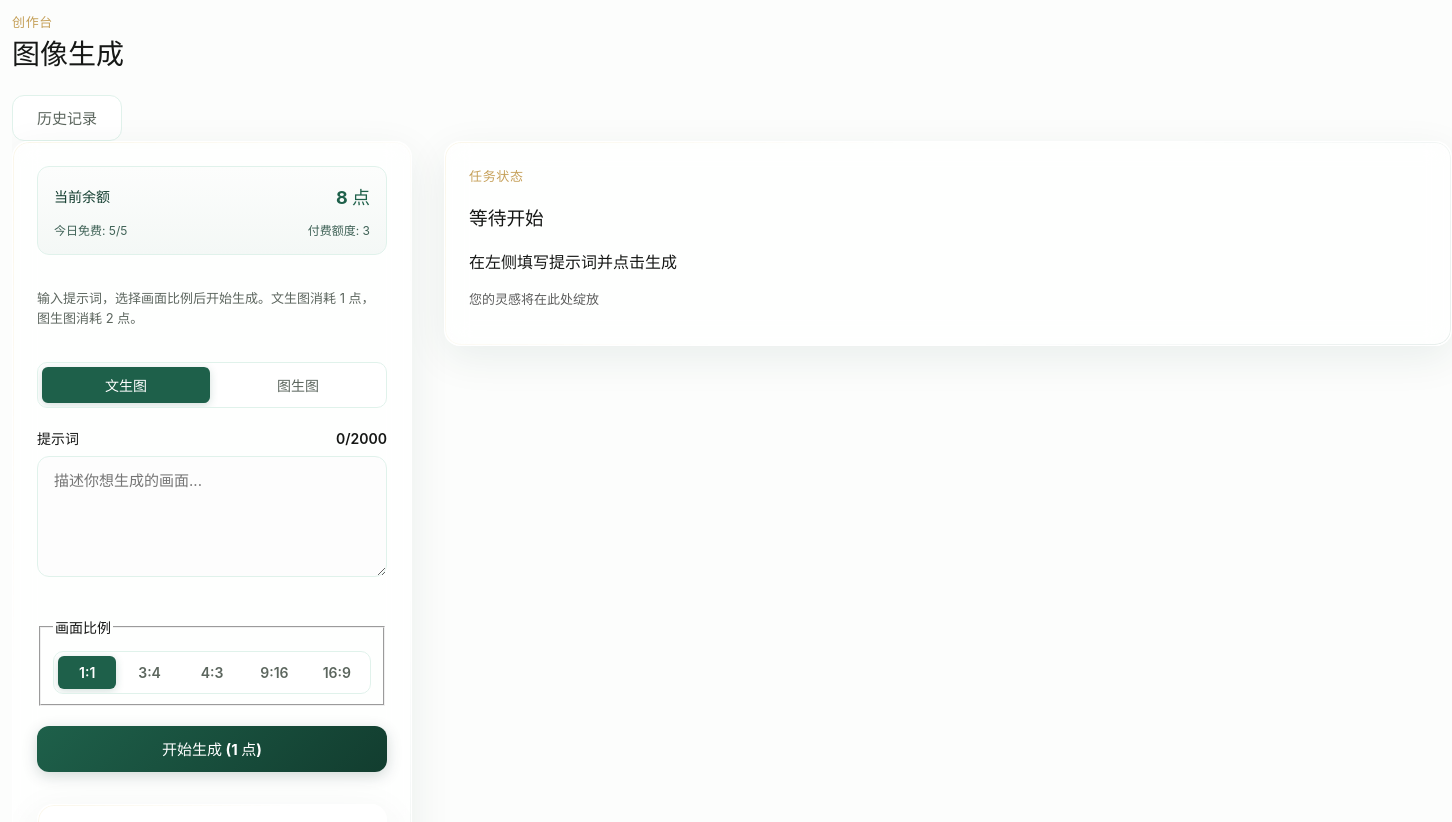
Test: WorkspacePage › cancels a queued generation and refreshes user credits
The width and height of the screenshot is (1452, 822).
Type "写错的提示词" into the text box labelled "提示词" at (212, 517), box [37, 456, 387, 577]
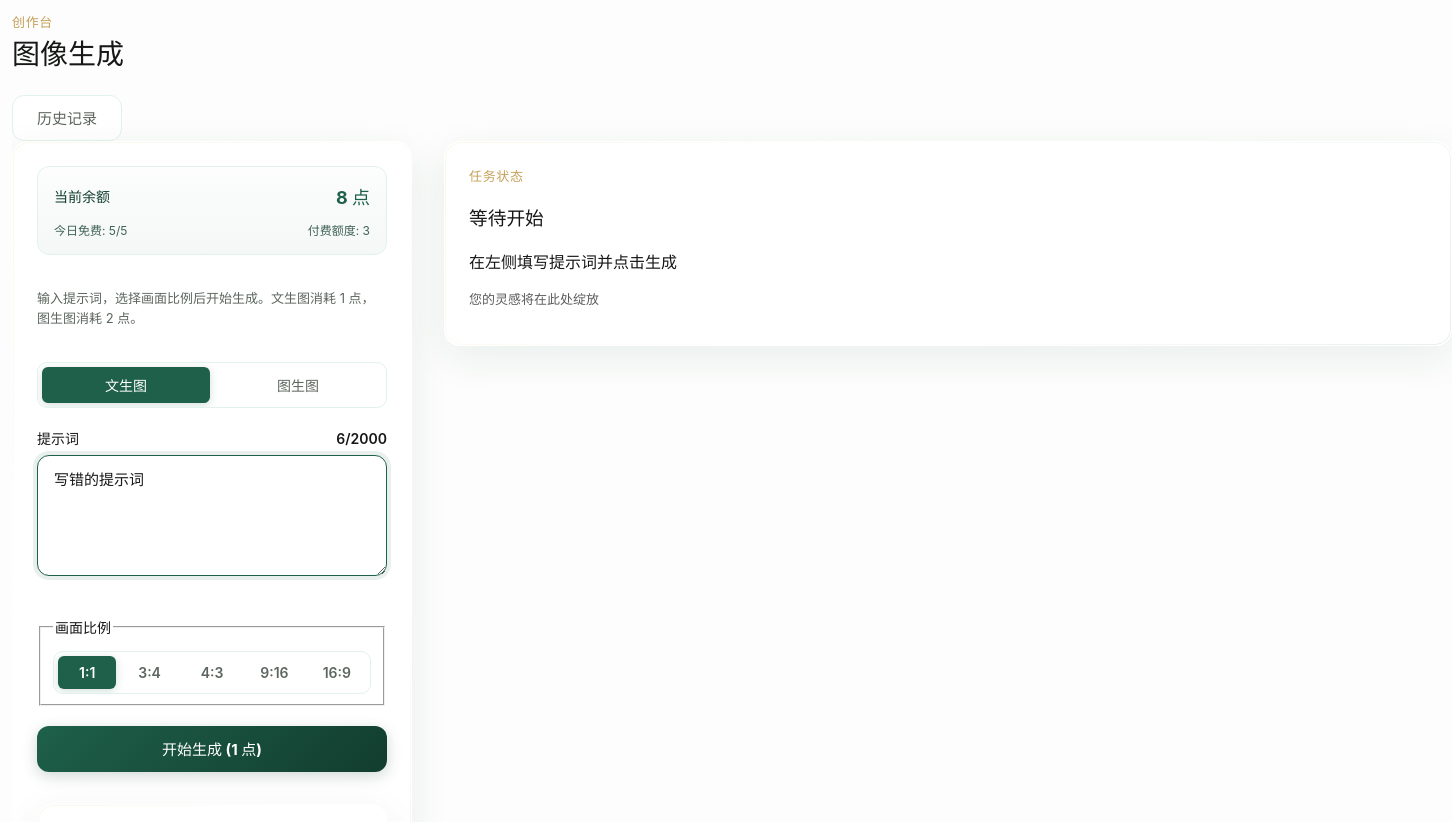
Click the button "开始生成 (1 点)" at (212, 749), box [37, 726, 387, 772]
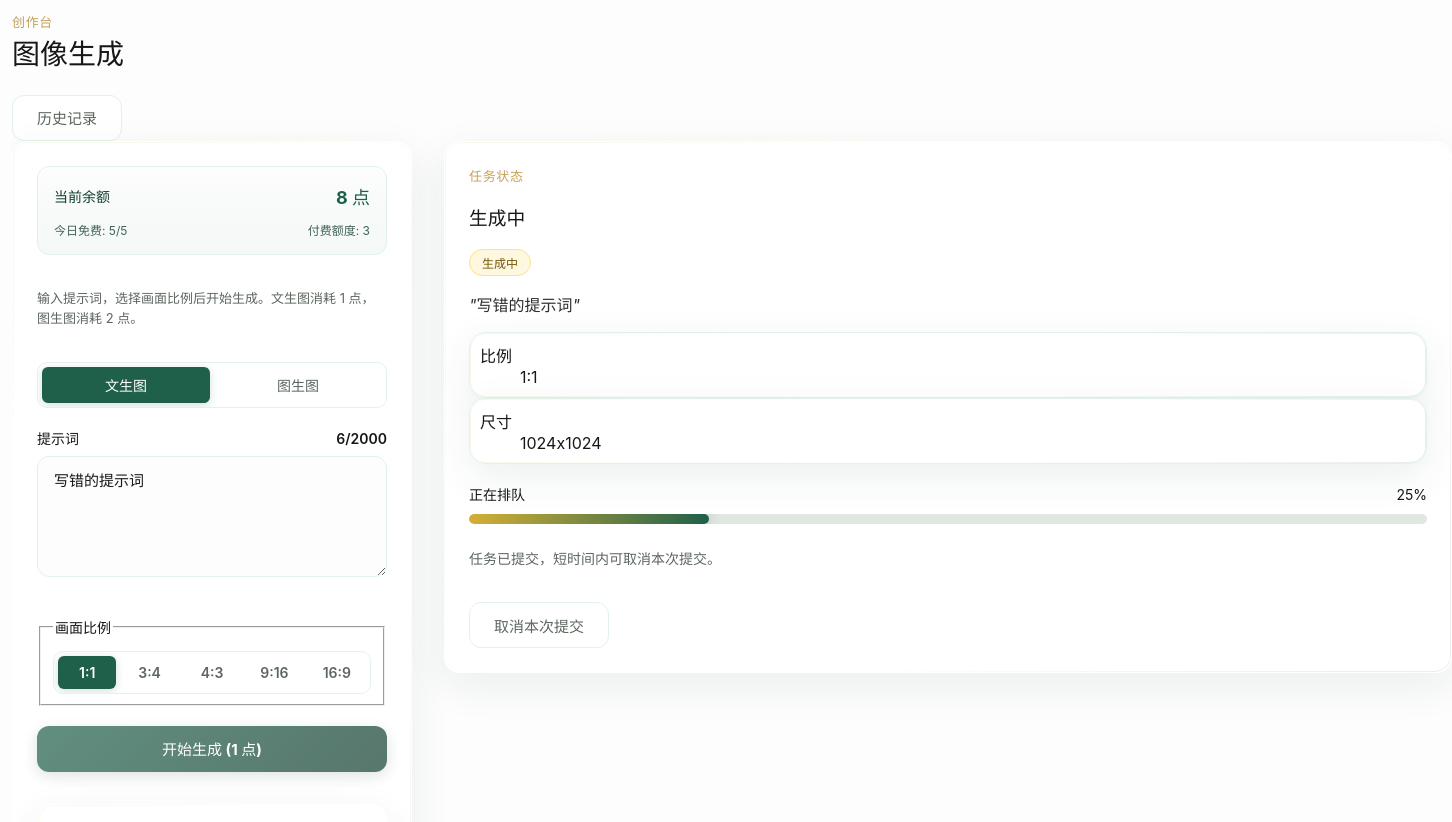
Click the button "取消本次提交" at (539, 625), box [469, 602, 609, 648]
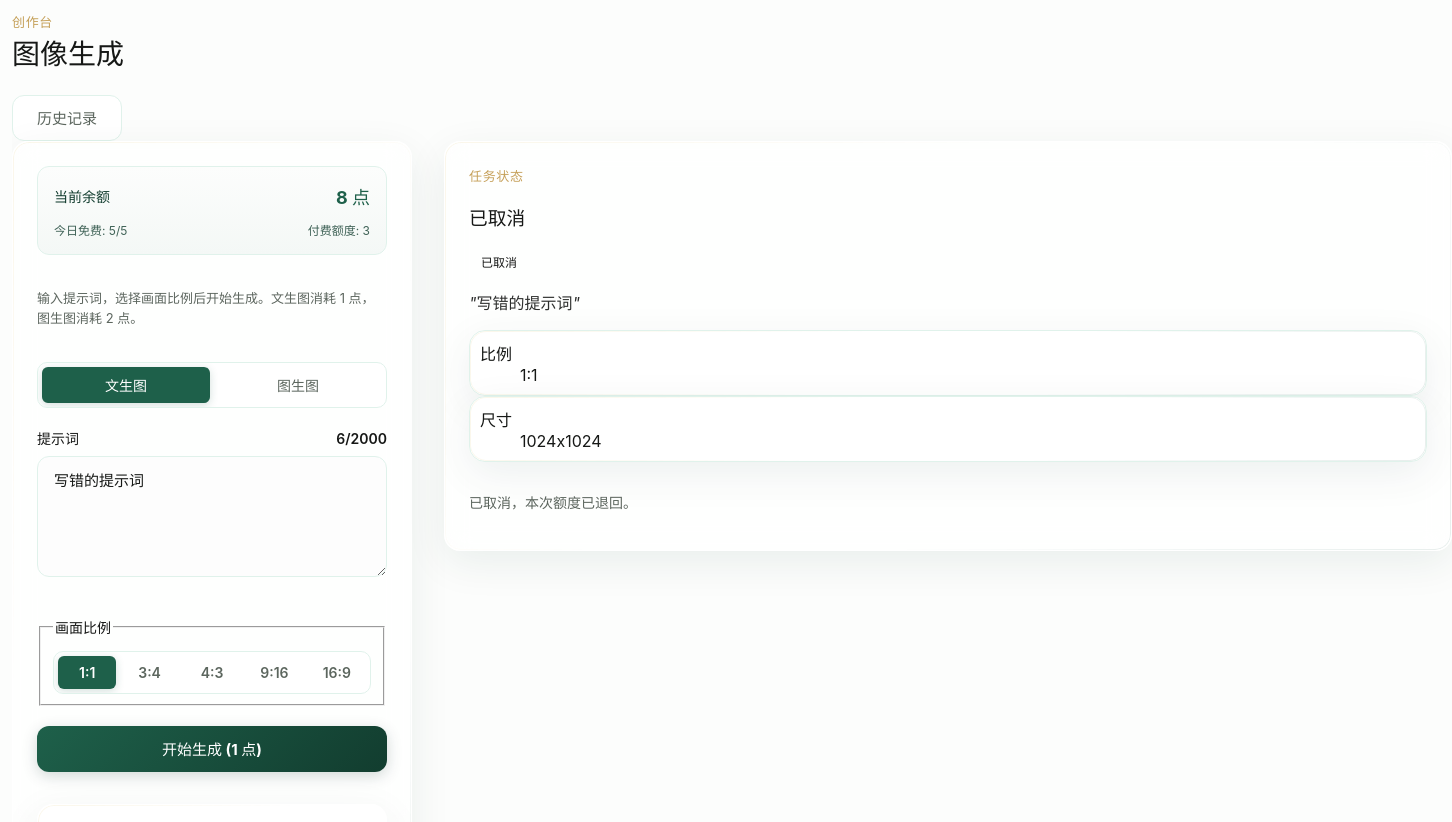
Now the text "已取消，本次额度已退回。" is shown, box [469, 494, 637, 511]
Now the button "开始生成 (1 点)" is enabled, box [37, 726, 387, 772]
